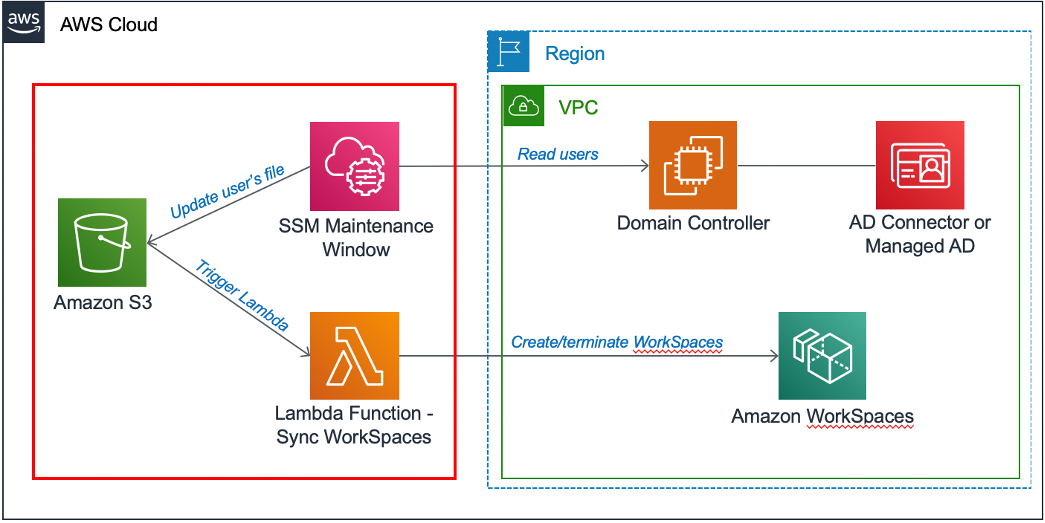ec2: (651, 122, 736, 208)
iam: (876, 122, 964, 210)
lambda: (312, 314, 399, 398)
s3: (60, 199, 146, 288)
systems manager: (312, 123, 398, 211)
vpc: (503, 87, 543, 124)
workspaces: (780, 313, 866, 398)
